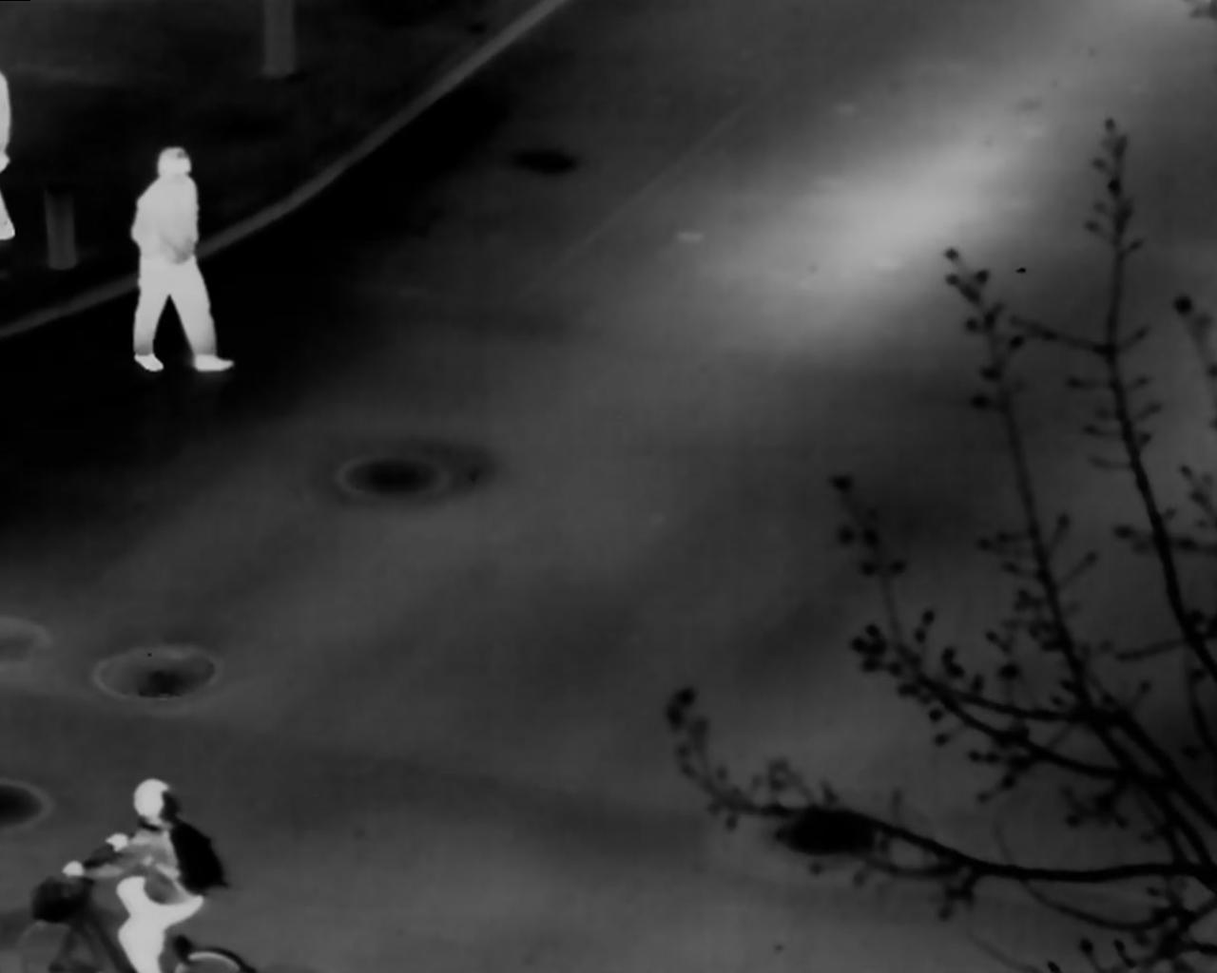person: (62, 776, 227, 973), (127, 144, 236, 372)
